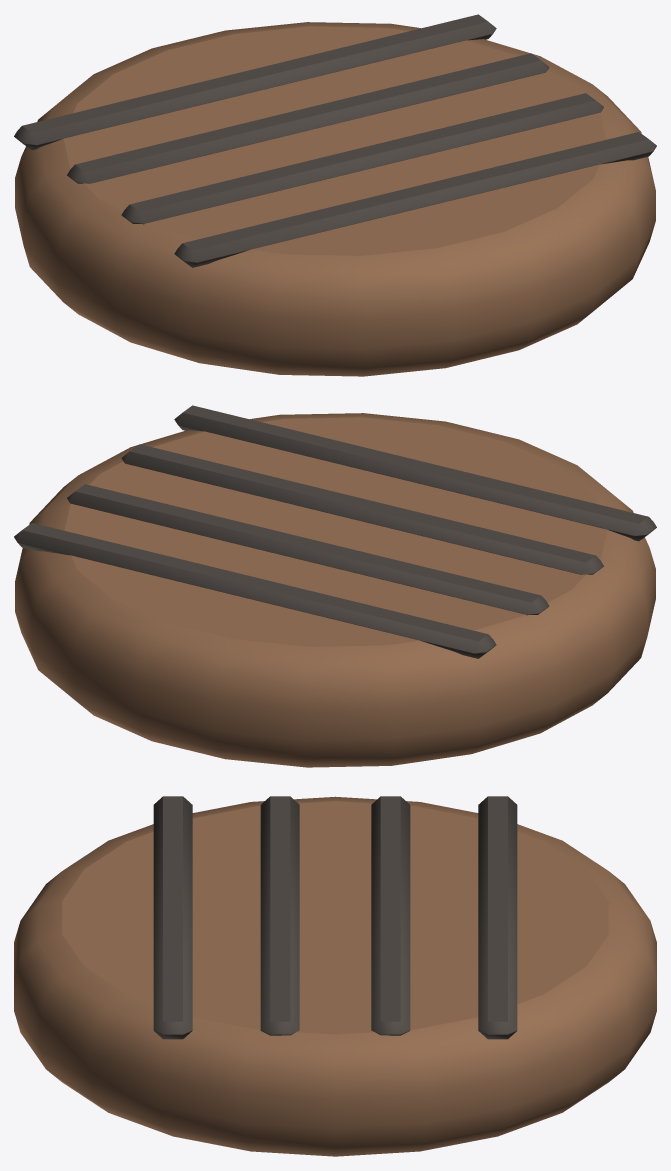
Rendered from kr_patty.glb.
3 renders of one model, top to bottom at view 1: azimuth 30°, elevation 25°; view 2: azimuth 150°, elevation 25°; view 3: azimuth 270°, elevation 25°, orthographic.
Parts seen in each view (by area): view 1: vc_m0_r6, vc_m0_r8; view 2: vc_m0_r6, vc_m0_r8; view 3: vc_m0_r6, vc_m0_r8.
Part boxes in pixels (left/top/right/bottom): vc_m0_r6: left=15, top=22, right=655, bottom=376; vc_m0_r8: left=14, top=14, right=656, bottom=267; vc_m0_r6: left=15, top=413, right=655, bottom=767; vc_m0_r8: left=14, top=405, right=656, bottom=658; vc_m0_r6: left=14, top=796, right=656, bottom=1156; vc_m0_r8: left=153, top=796, right=517, bottom=1039.
Bounding box in the file's own units: 0.2 × 0.043 × 0.198.
